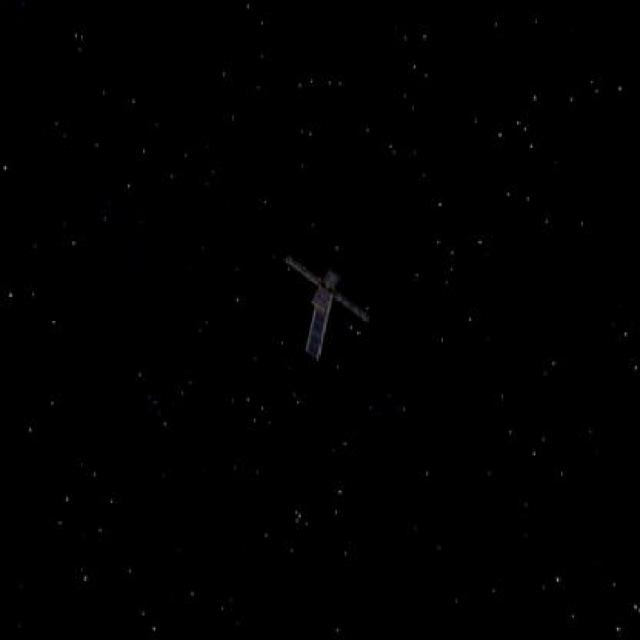medium_debris: (279, 231, 375, 371)
